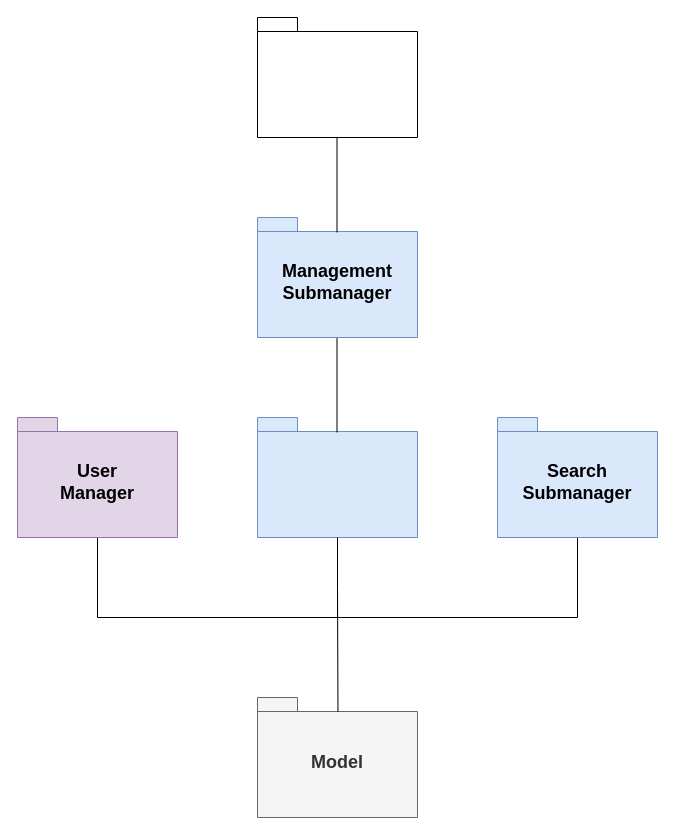
Image size: 675x835. Some labels were removed from this diagram. Here are the shapes that lost their labels. From the top down, the box of each, then its label:
(256, 16, 418, 138): Driver
(256, 416, 418, 538): Posting Submanager
